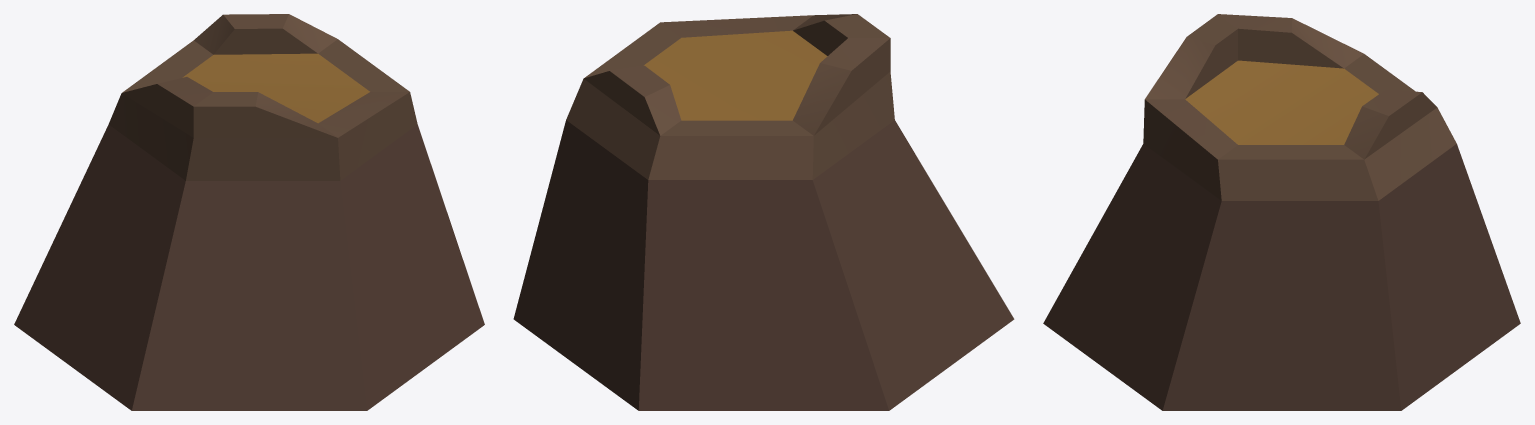
Rendered from tree_pine_log_2.fbx.
3 views of the same model, side by side, from view 1: azimuth 30°, elevation 25°; view 2: azimuth 150°, elevation 25°; view 3: azimuth 270°, elevation 25° (orthographic). The views are drawn at different scales.
Parts seen in each view (by area): view 1: tree_pine_log_2; view 2: tree_pine_log_2; view 3: tree_pine_log_2.
Boxes of the visible parts, x1,y1,x2,y2 form: tree_pine_log_2: [14, 14, 484, 410]; tree_pine_log_2: [513, 14, 1014, 410]; tree_pine_log_2: [1043, 14, 1520, 410].
Bounding box in the file's own units: 161 × 114 × 185.
